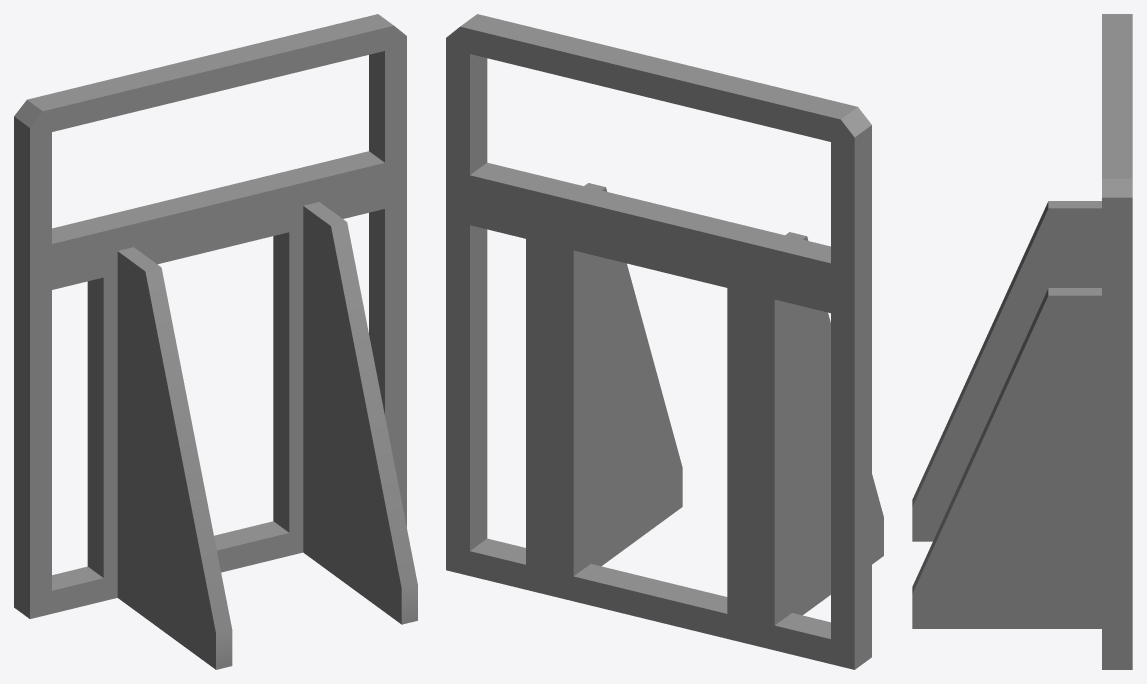
Rendered from Bookend_01.FBX.
3 renders of one model, left to right at view 1: azimuth 30°, elevation 25°; view 2: azimuth 150°, elevation 25°; view 3: azimuth 270°, elevation 25°, orthographic. The views are drawn at different scales.
Parts seen in each view (by area): view 1: Bookend_01; view 2: Bookend_01; view 3: Bookend_01.
Part boxes in pixels (left/top/right/bottom): Bookend_01: left=14, top=14, right=417, bottom=669; Bookend_01: left=446, top=14, right=883, bottom=669; Bookend_01: left=912, top=14, right=1132, bottom=669.
Size of the model in its own units: 8.57 by 10.96 by 4.51.
